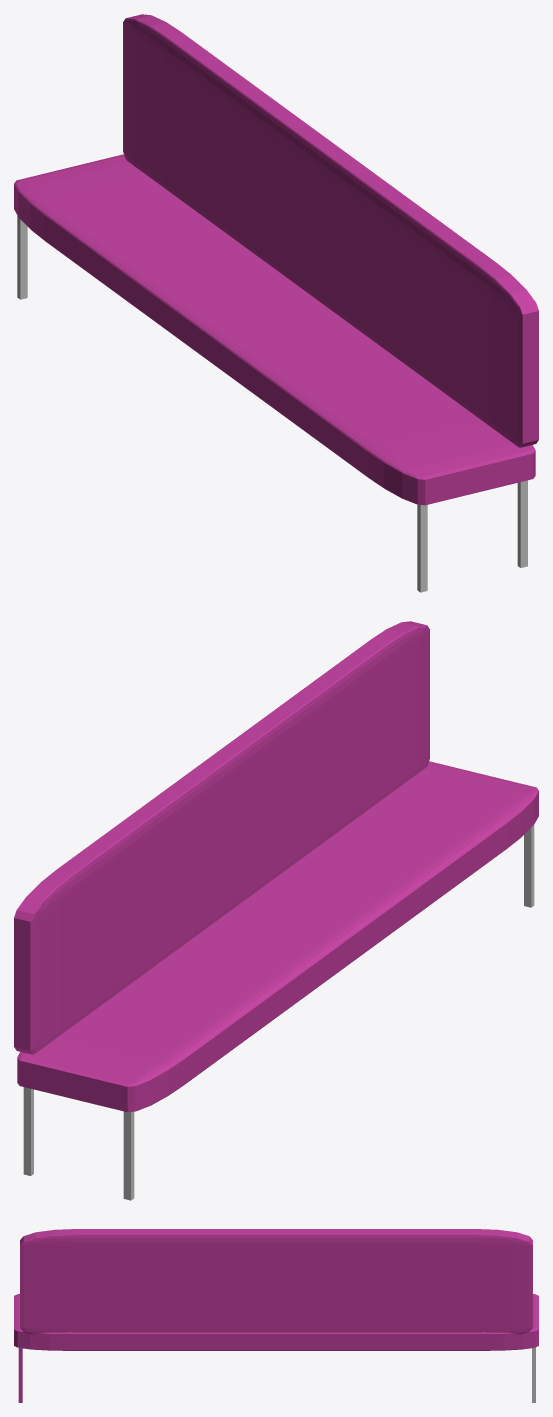
File: Couch.fbx
3 views of the same model, one above another, from view 1: azimuth 30°, elevation 25°; view 2: azimuth 150°, elevation 25°; view 3: azimuth 270°, elevation 25° (orthographic). The views are drawn at different scales.
Parts seen in each view (by area): view 1: Roundcube.002; view 2: Roundcube.002; view 3: Roundcube.002.
Boxes of the visible parts, x1,y1,x2,y2 form: Roundcube.002: (14, 14, 538, 592); Roundcube.002: (14, 621, 538, 1200); Roundcube.002: (14, 1229, 538, 1402).
Bounding box in the file's own units: 81.76 × 154 × 424.
